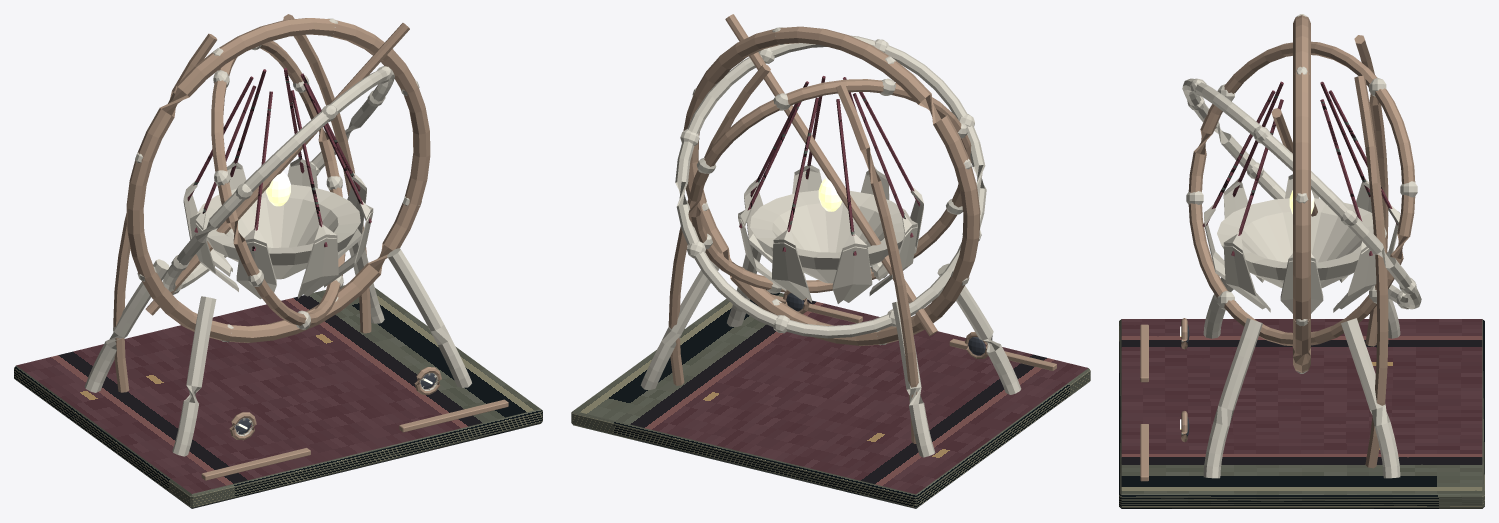
File: inversion_tilted_gyroscope.glb
3 renders of one model, left to right at view 1: azimuth 30°, elevation 25°; view 2: azimuth 150°, elevation 25°; view 3: azimuth 270°, elevation 25°, orthographic. The views are drawn at different scales.
Parts seen in each view (by area): view 1: inversion_tilted_gyroscope_petrol, inversion_tilted_gyroscope_worn, inversion_tilted_gyroscope_warm, inversion_tilted_gyroscope_bruised, inversion_tilted_gyroscope_sick; view 2: inversion_tilted_gyroscope_petrol, inversion_tilted_gyroscope_warm, inversion_tilted_gyroscope_worn, inversion_tilted_gyroscope_bruised; view 3: inversion_tilted_gyroscope_petrol, inversion_tilted_gyroscope_warm, inversion_tilted_gyroscope_worn, inversion_tilted_gyroscope_bruised.
Part boxes in pixels (left/top/right/bottom): inversion_tilted_gyroscope_petrol: left=14, top=285, right=542, bottom=508; inversion_tilted_gyroscope_worn: left=113, top=14, right=508, bottom=480; inversion_tilted_gyroscope_warm: left=84, top=18, right=471, bottom=456; inversion_tilted_gyroscope_bruised: left=187, top=68, right=371, bottom=250; inversion_tilted_gyroscope_sick: left=238, top=171, right=432, bottom=429; inversion_tilted_gyroscope_petrol: left=571, top=289, right=1090, bottom=508; inversion_tilted_gyroscope_warm: left=640, top=27, right=1021, bottom=457; inversion_tilted_gyroscope_worn: left=668, top=14, right=1056, bottom=443; inversion_tilted_gyroscope_bruised: left=739, top=76, right=920, bottom=255; inversion_tilted_gyroscope_petrol: left=1119, top=319, right=1484, bottom=508; inversion_tilted_gyroscope_warm: left=1181, top=14, right=1421, bottom=478; inversion_tilted_gyroscope_worn: left=1140, top=15, right=1415, bottom=481; inversion_tilted_gyroscope_bruised: left=1202, top=81, right=1397, bottom=256.
Size of the model in its own units: 5.95 by 6.12 by 5.2.
6 materials, 2 textured.
